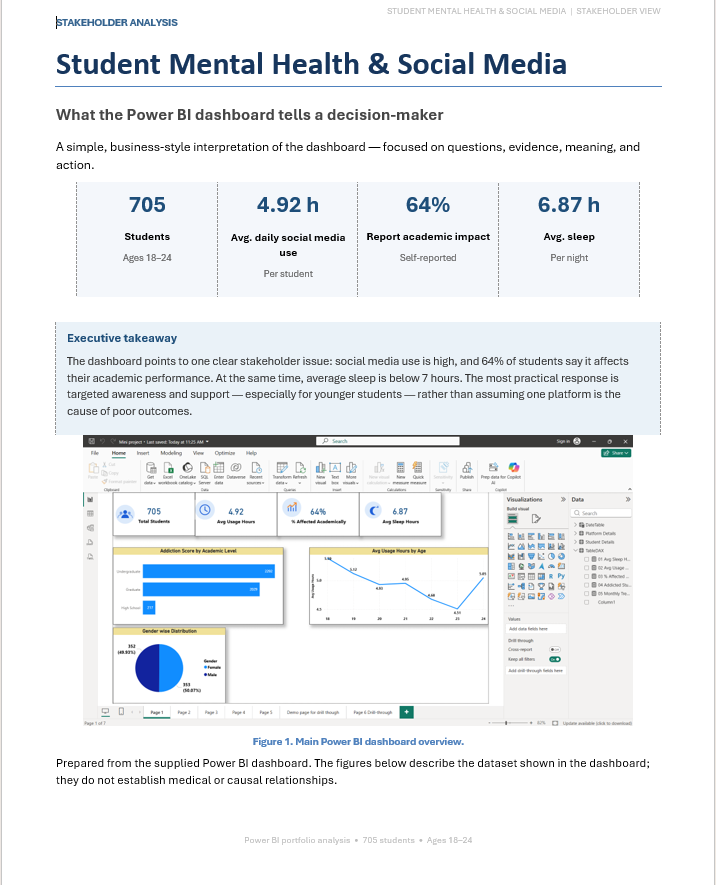

This screenshot's page, from the dashboard's own definition file:
{"tool":"powerbi","page":{"name":"Page 1","canvas":[1280,720],"ordinal":0},"visuals":[{"type":"card","fields":{"Values":["CountNonNull(Student Details.Student_ID)"]},"box":[0,0,280,148.8],"z":0},{"type":"card","fields":{"Values":["TableDAX.02 Avg Usage Hours"]},"box":[280.1,0,280.1,150.1],"z":1000},{"type":"card","fields":{"Values":["TableDAX.03 % Affected Academically"]},"box":[560.1,0,280,150.4],"z":2000},{"type":"card","fields":{"Values":["TableDAX.01 Avg Sleep Hours"]},"box":[840,0,280,150],"z":3000},{"type":"barChart","title":"Addiction Score by Academic Level","fields":{"Category":["Student Details.Academic_Level"],"Y":["Sum(Student Details.Addicted_Score)"]},"box":[0,188.3,580.8,262.9],"z":4000},{"type":"lineChart","title":"Avg Usage Hours by Age","fields":{"Category":["Student Details.Age"],"Y":["TableDAX.02 Avg Usage Hours"]},"box":[670.1,188.3,610.2,262.9],"z":5000},{"type":"pieChart","title":" Gender wise Distribution","fields":{"Category":["Student Details.Gender"],"Y":["CountNonNull(Student Details.Gender)"]},"box":[0,462.2,384,258],"z":6000},{"type":"image","box":[0,42.8,81.9,64.8],"z":6001},{"type":"image","box":[280,24.5,67.3,69.7],"z":6002},{"type":"image","box":[560.1,19.6,100.3,64.8],"z":6003},{"type":"image","box":[840.1,31.8,96.6,57.5],"z":6004}]}

Visuals, with their boxes on the page's 1280x720 design canvas (x1, y1, x2, y2). These are canvas units, not pixel positions in the 716x885 screenshot, which may show the page scaled, cropped or inside an application window:
card - CountNonNull(Student Details.Student_ID): 0, 0, 280, 149
card - TableDAX.02 Avg Usage Hours: 280, 0, 560, 150
card - TableDAX.03 % Affected Academically: 560, 0, 840, 150
card - TableDAX.01 Avg Sleep Hours: 840, 0, 1120, 150
"Addiction Score by Academic Level" barChart: 0, 188, 581, 451
"Avg Usage Hours by Age" lineChart: 670, 188, 1280, 451
" Gender wise Distribution" pieChart: 0, 462, 384, 720
image: 0, 43, 82, 108
image: 280, 24, 347, 94
image: 560, 20, 660, 84
image: 840, 32, 937, 89
